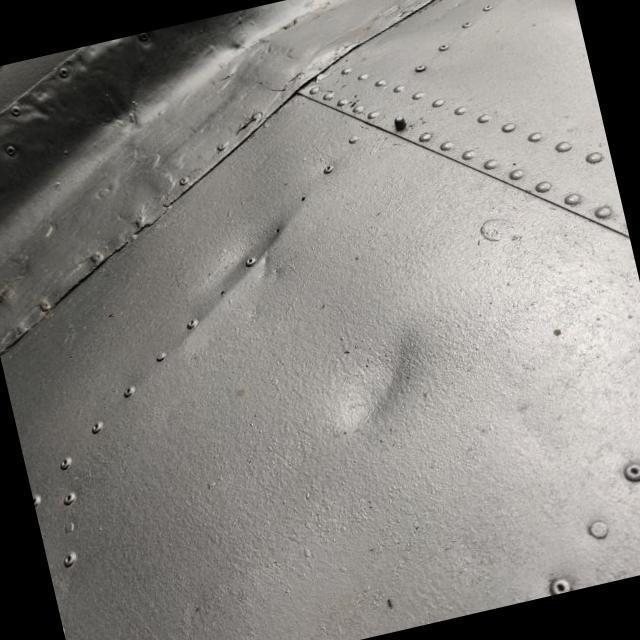Dent: (267, 277, 492, 502)
